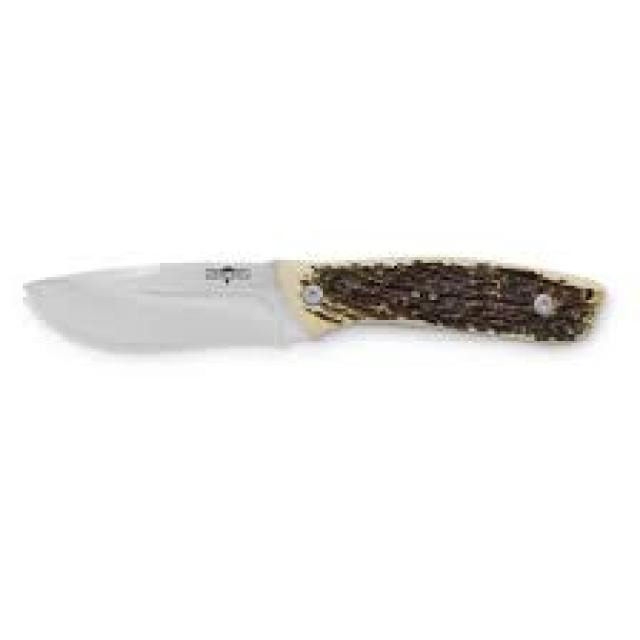knives: (14, 249, 612, 360)
